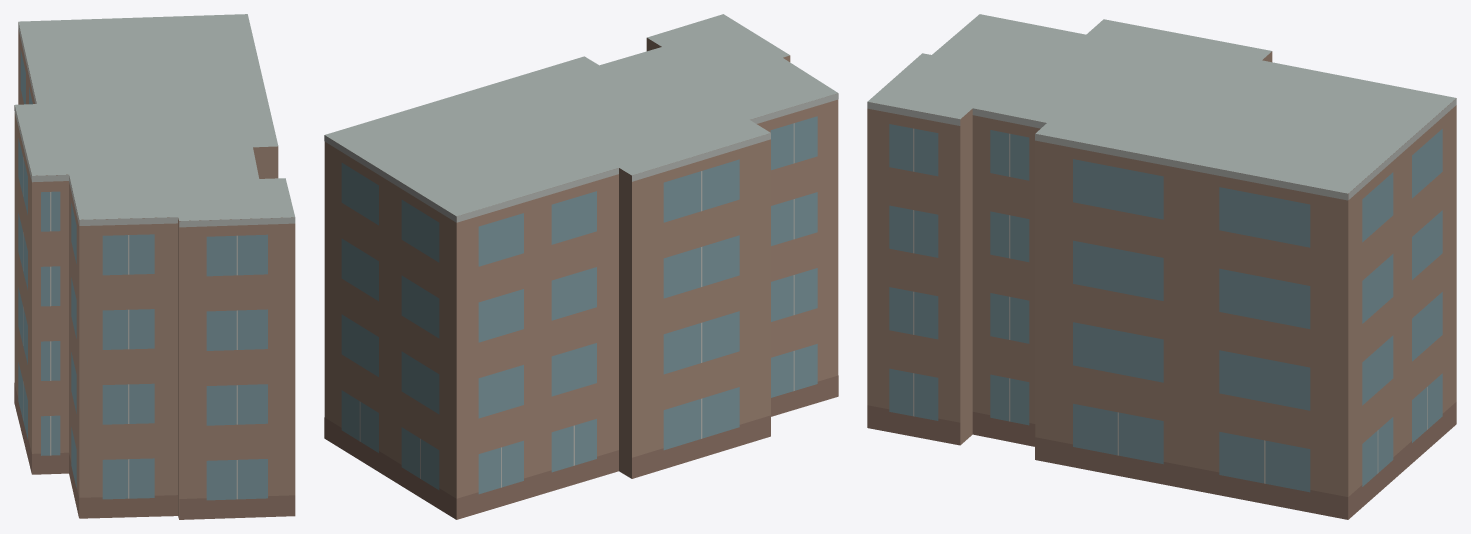
The model's file is survey-upis-32923476.glb.
3 views of the same model, side by side, from view 1: azimuth 30°, elevation 25°; view 2: azimuth 150°, elevation 25°; view 3: azimuth 270°, elevation 25° (orthographic). The views are drawn at different scales.
Parts seen in each view (by area): view 1: survey-upis-32923476.tmp; view 2: survey-upis-32923476.tmp; view 3: survey-upis-32923476.tmp.
Part boxes in pixels (x1=…): survey-upis-32923476.tmp: x1=14, y1=14, x2=295, y2=519; survey-upis-32923476.tmp: x1=324, y1=14, x2=838, y2=519; survey-upis-32923476.tmp: x1=867, y1=14, x2=1456, y2=519.
Bounding box in the file's own units: 13.71 × 11.6 × 19.
